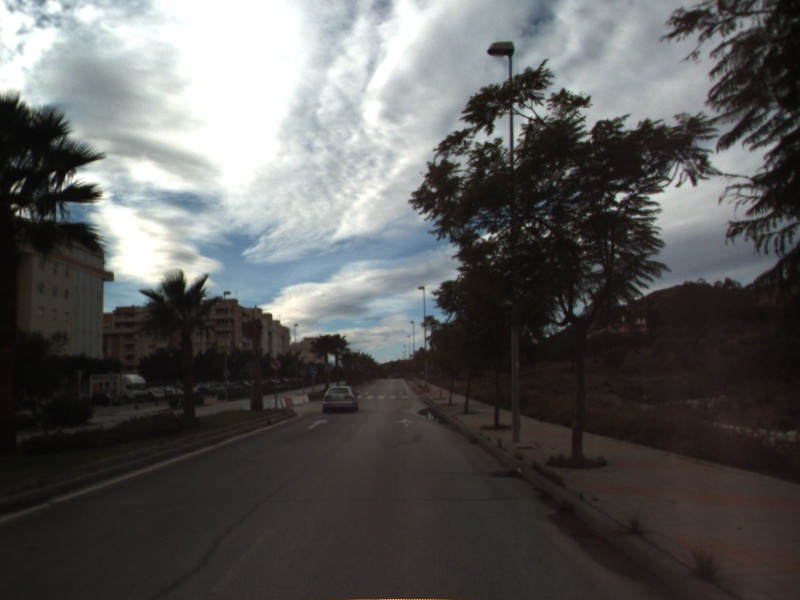STRAIGHT: (306, 417, 331, 431)
